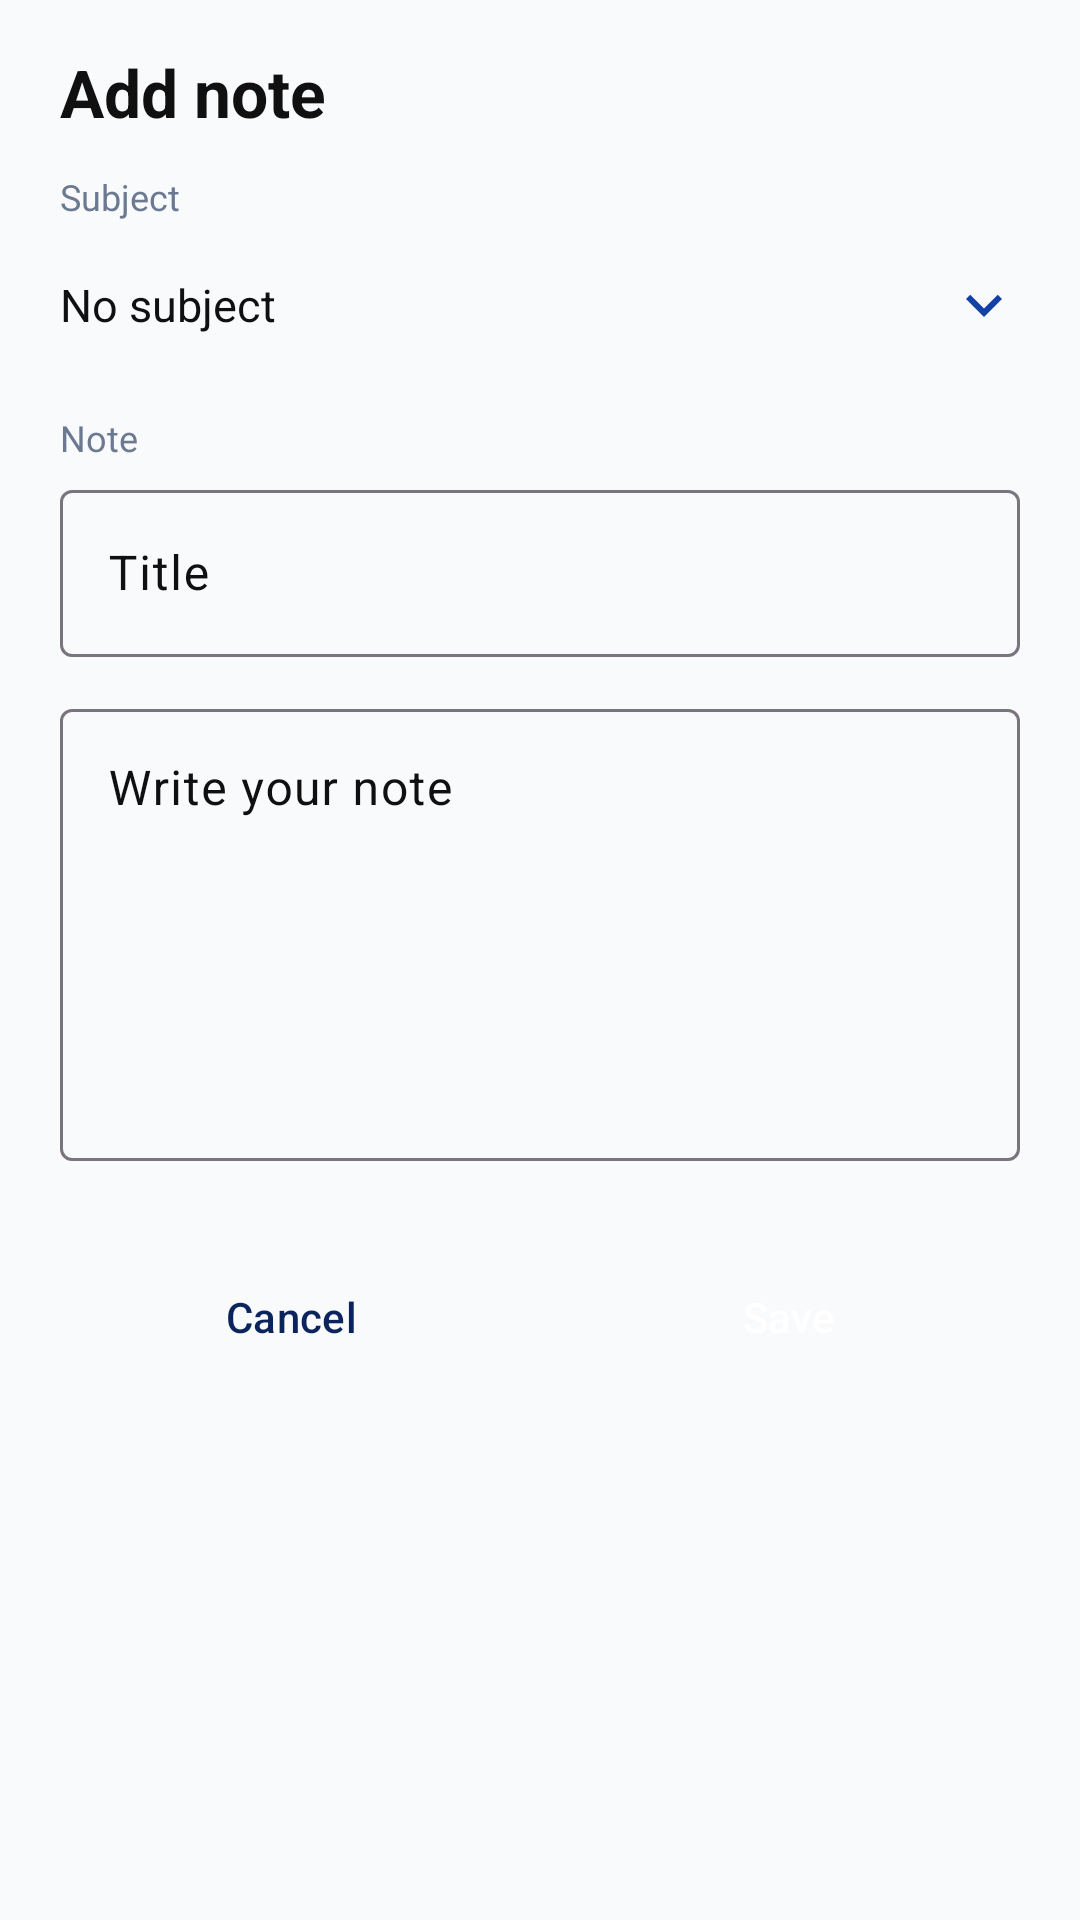

Where to tap for icons on this 1080px×1920px app screen, as point (x, y):
Select subject: point (984, 306)
